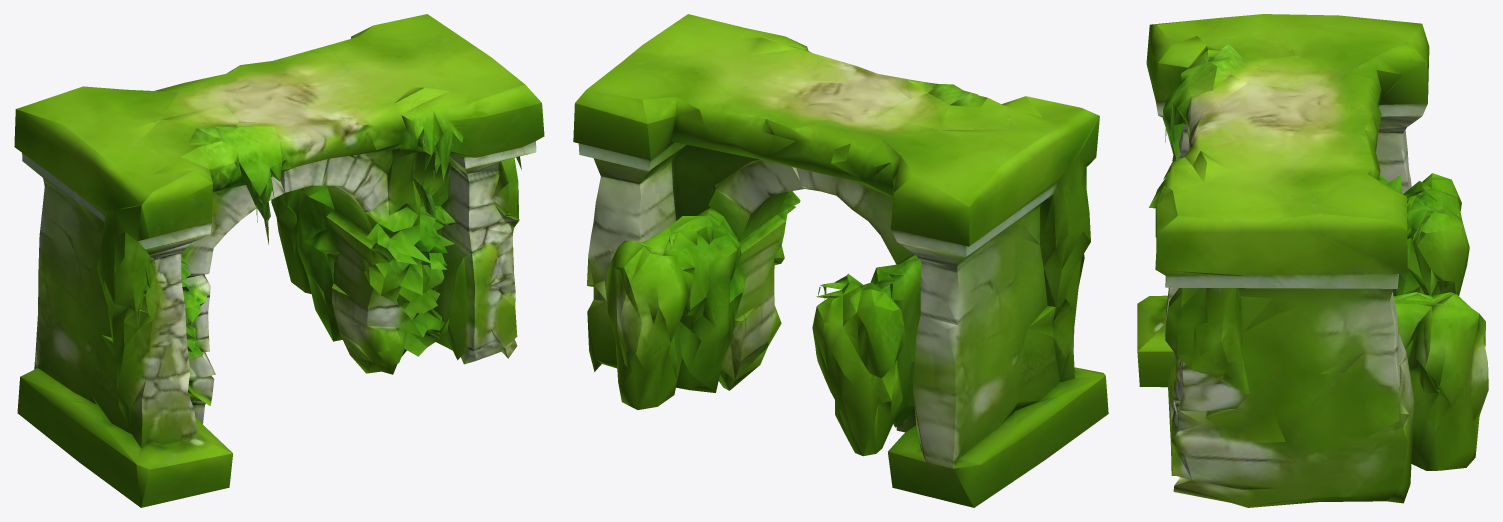
File: m2MossyRuinArch.glb
The picture shows the model from 3 angles, left to right: view 1: azimuth 30°, elevation 25°; view 2: azimuth 150°, elevation 25°; view 3: azimuth 270°, elevation 25°; orthographic projection. The views are drawn at different scales.
Visible parts, largest first — view 1: model; view 2: model; view 3: model.
Boxes of the visible parts, x1,y1,x2,y2 form: model: (14,14,544,507); model: (573,14,1108,507); model: (1137,14,1488,507).
Size of the model in its own units: 1.9 by 1.43 by 1.31.
Materials: 1 (1 with a texture image).
